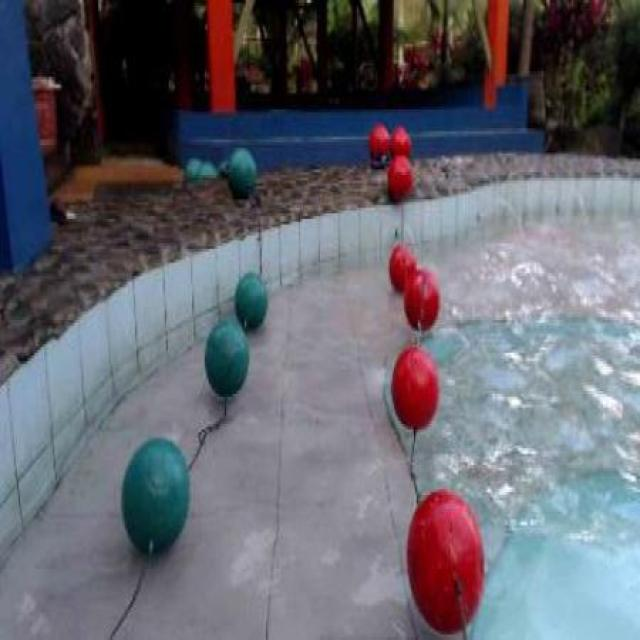buoy: (403, 488, 486, 633), (121, 436, 190, 554), (389, 346, 439, 431), (203, 319, 249, 398), (401, 264, 440, 332), (234, 272, 268, 330), (387, 242, 419, 294), (226, 146, 256, 198), (384, 152, 412, 204)
